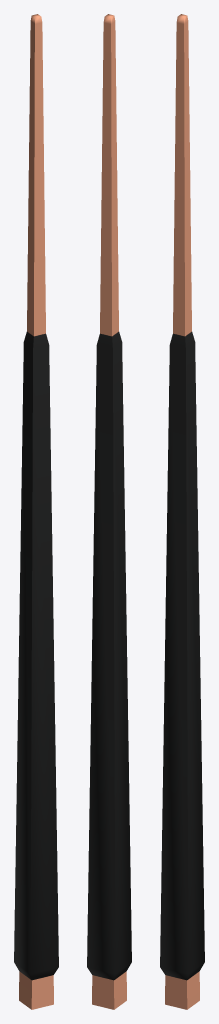
The model's file is chopstick_007.glb.
3 views of the same model, side by side, from view 1: azimuth 30°, elevation 25°; view 2: azimuth 150°, elevation 25°; view 3: azimuth 330°, elevation 25° (orthographic).
Parts seen in each view (by area): view 1: chopstick.007; view 2: chopstick.007; view 3: chopstick.007.
Part boxes in pixels (x1,y1,x2,y2): chopstick.007: (14, 14, 58, 1009); chopstick.007: (87, 14, 131, 1009); chopstick.007: (160, 14, 204, 1009).
Size of the model in its own units: 0.1673 by 5.53 by 0.1673.
1 material, 1 textured.
